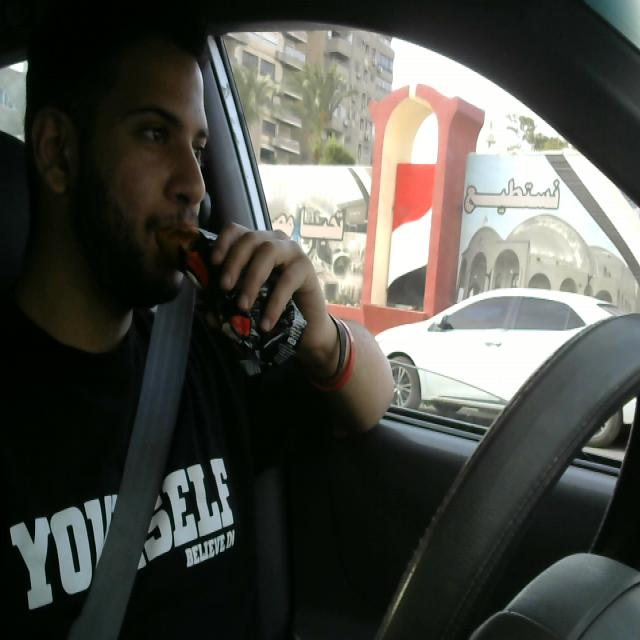eating: (156, 210, 310, 397)
